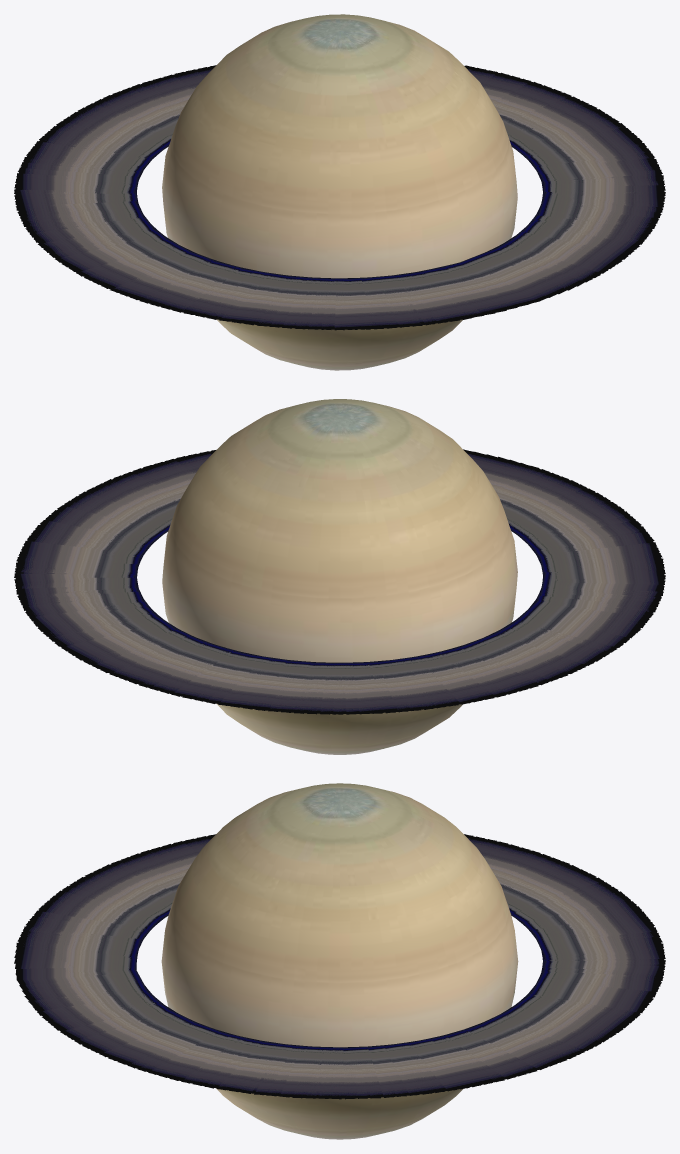
Rendered from saturn.glb.
3 views of the same model, one above another, from view 1: azimuth 30°, elevation 25°; view 2: azimuth 150°, elevation 25°; view 3: azimuth 270°, elevation 25° (orthographic).
Parts seen in each view (by area): view 1: 球.016, 平面.001; view 2: 球.016, 平面.001; view 3: 球.016, 平面.001.
Boxes of the visible parts, <box> form: 球.016: <box>162,14,517,370</box>; 平面.001: <box>14,65,665,330</box>; 球.016: <box>162,399,517,754</box>; 平面.001: <box>14,449,665,714</box>; 球.016: <box>161,783,518,1139</box>; 平面.001: <box>14,834,665,1099</box>.
Size of the model in its own units: 2.12 by 1.16 by 2.12.
Materials: 2 (2 with a texture image).
